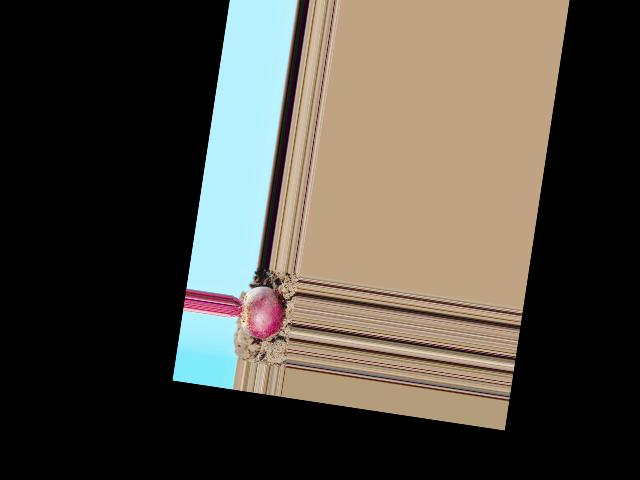beet: (226, 281, 288, 341)
